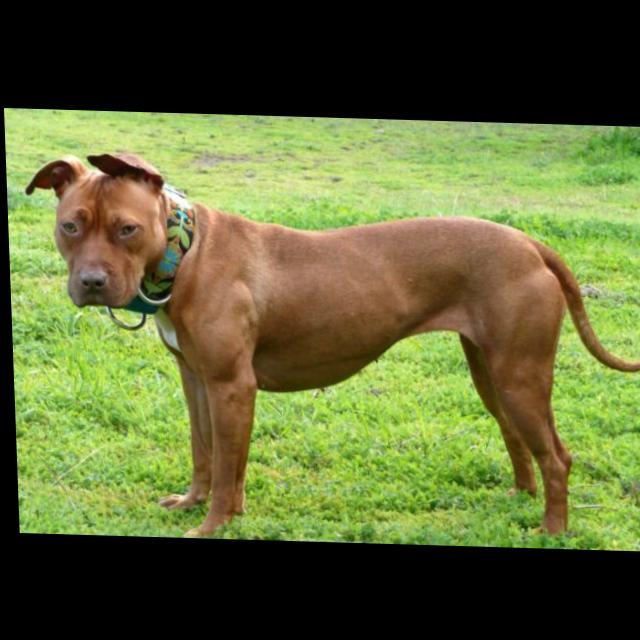am_pit_bull_terrier: (23, 148, 640, 549)
